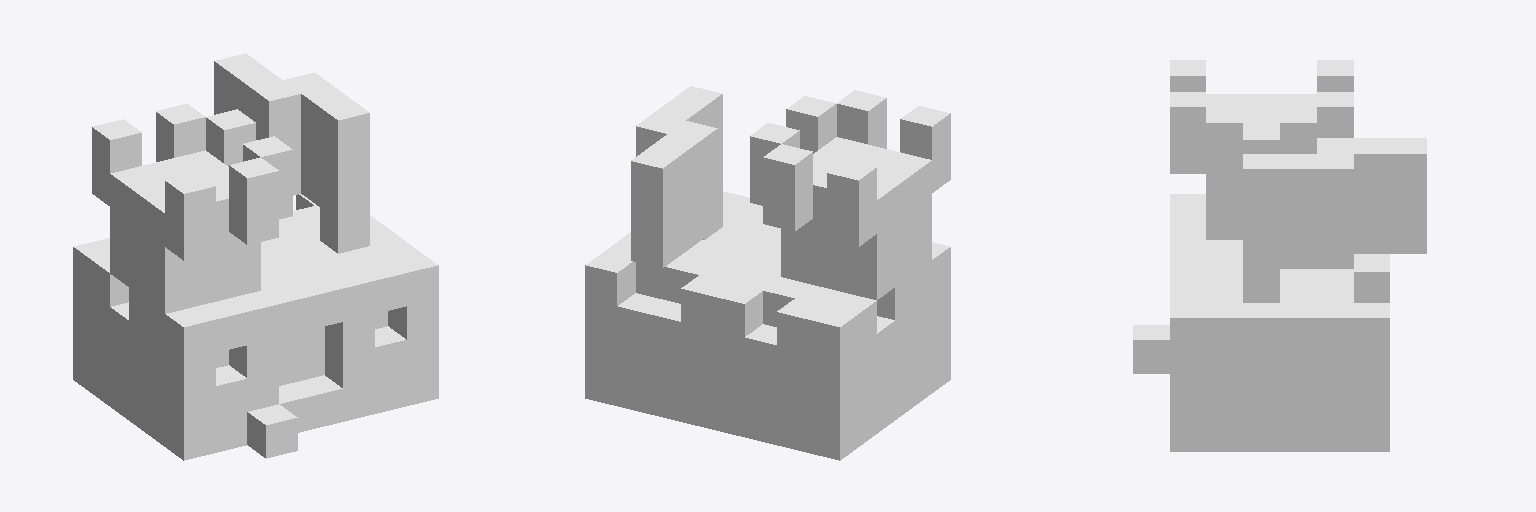
Rendered from SandCastle.obj.
3 renders of one model, left to right at view 1: azimuth 30°, elevation 25°; view 2: azimuth 150°, elevation 25°; view 3: azimuth 270°, elevation 25°, orthographic.
Visible parts, largest first — view 1: SandCastle; view 2: SandCastle; view 3: SandCastle.
Boxes of the visible parts, x1=… form: SandCastle: x1=73, y1=53, x2=438, y2=460; SandCastle: x1=585, y1=86, x2=950, y2=460; SandCastle: x1=1133, y1=60, x2=1426, y2=451.
Bounding box in the file's own units: 8 × 8 × 8.